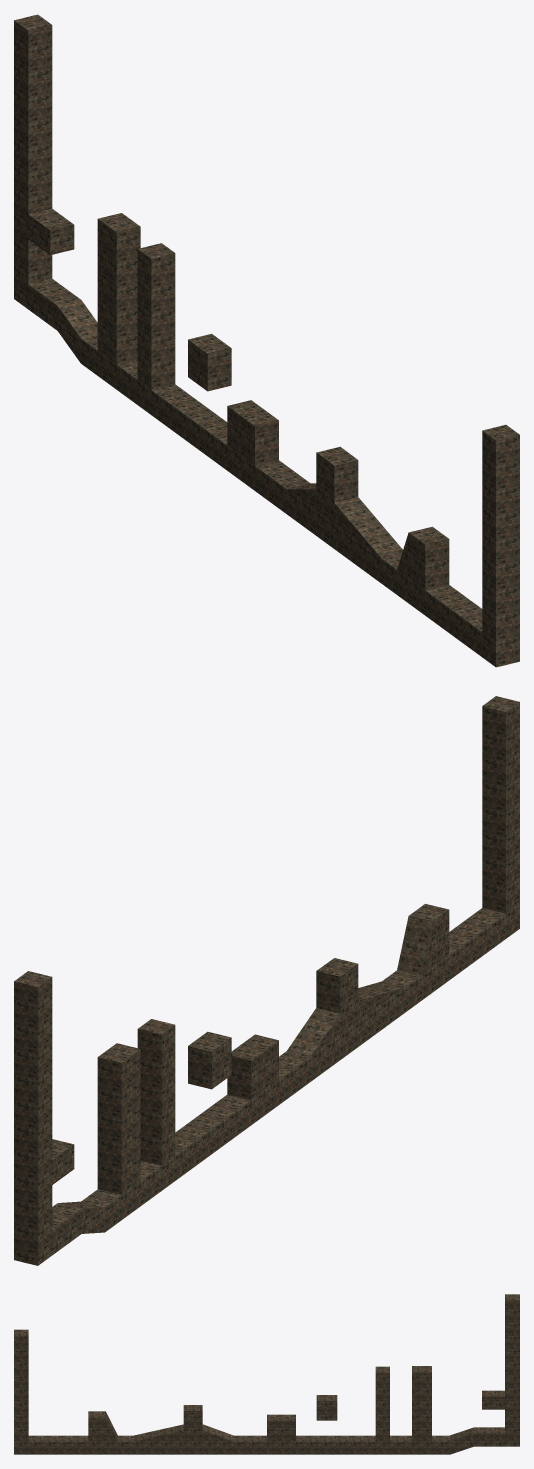
The model's file is 2dlevel.fbx.
3 renders of one model, top to bottom at view 1: azimuth 30°, elevation 25°; view 2: azimuth 150°, elevation 25°; view 3: azimuth 270°, elevation 25°, orthographic. The views are drawn at different scales.
Visible parts, largest first — view 1: Cube; view 2: Cube; view 3: Cube.
Boxes of the visible parts, <box> form: Cube: <box>14,14,519,667</box>; Cube: <box>14,696,519,1265</box>; Cube: <box>14,1294,519,1454</box>.
Bounding box in the file's own units: 200 × 2347 × 6967.
